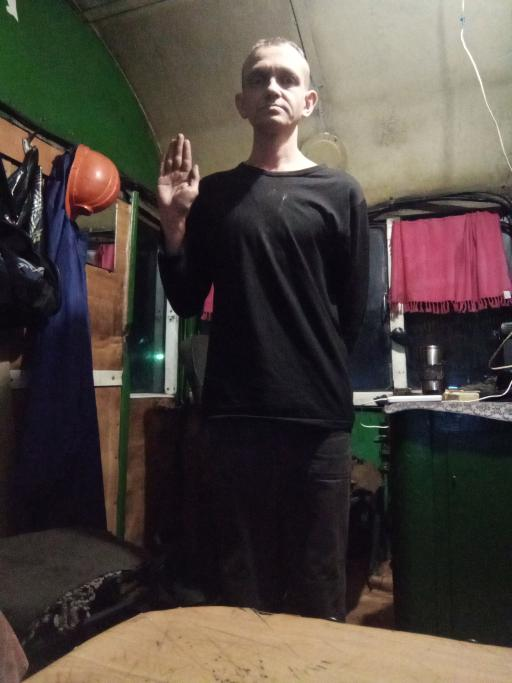stop: (155, 131, 201, 214)
